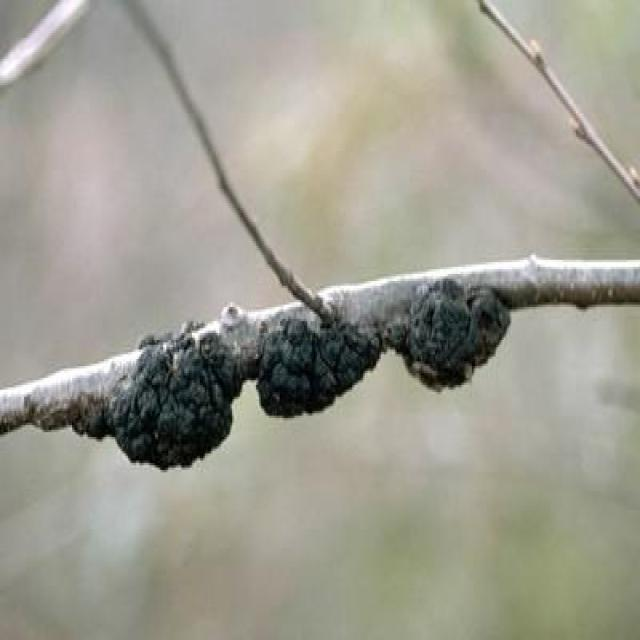Black_knot: (109, 316, 240, 470), (254, 305, 381, 418), (398, 274, 511, 392)
